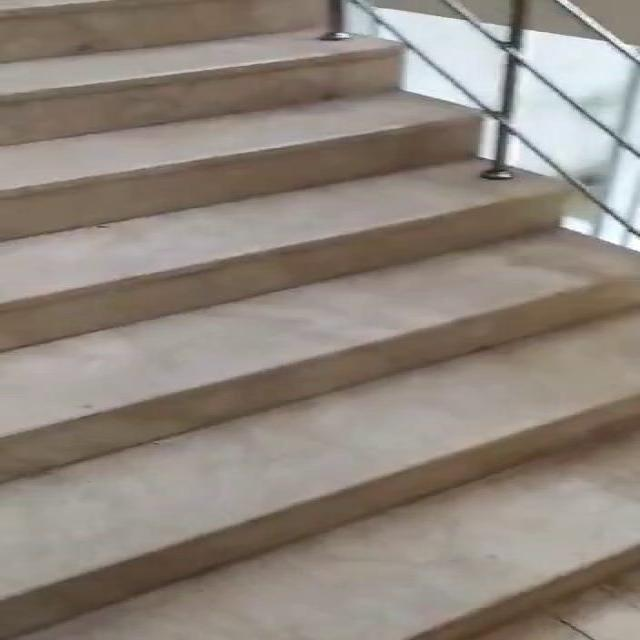upstair: (21, 14, 640, 640)
